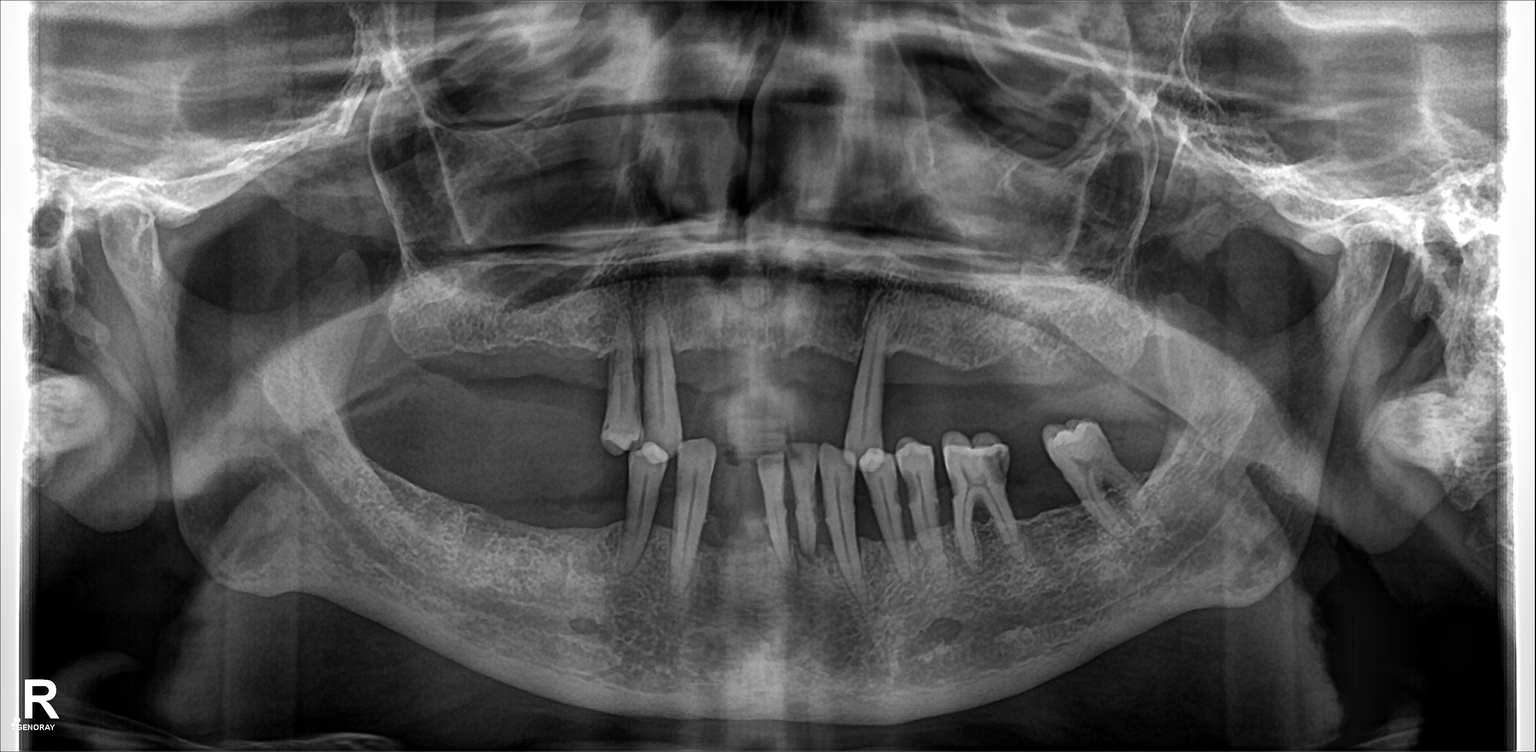Missing Tooth: (432, 434, 487, 548), (495, 430, 541, 559), (1007, 434, 1064, 529), (683, 316, 733, 423), (723, 449, 764, 572), (577, 460, 618, 572), (559, 305, 606, 402), (734, 324, 779, 422), (464, 300, 508, 399), (382, 292, 422, 398), (1132, 417, 1186, 495), (1058, 311, 1099, 410), (791, 329, 834, 423), (510, 307, 553, 399), (946, 331, 988, 423), (540, 454, 574, 567), (384, 424, 426, 515), (996, 331, 1043, 410), (425, 292, 459, 398), (892, 333, 928, 429)
